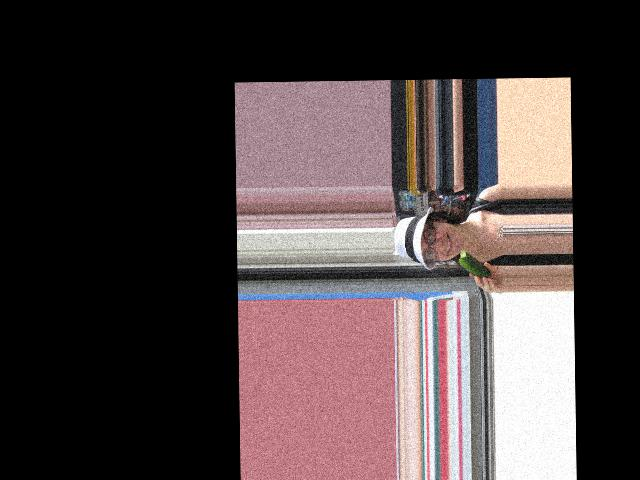cucumber: (459, 250, 491, 279)
